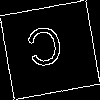C: (24, 24, 67, 77)
